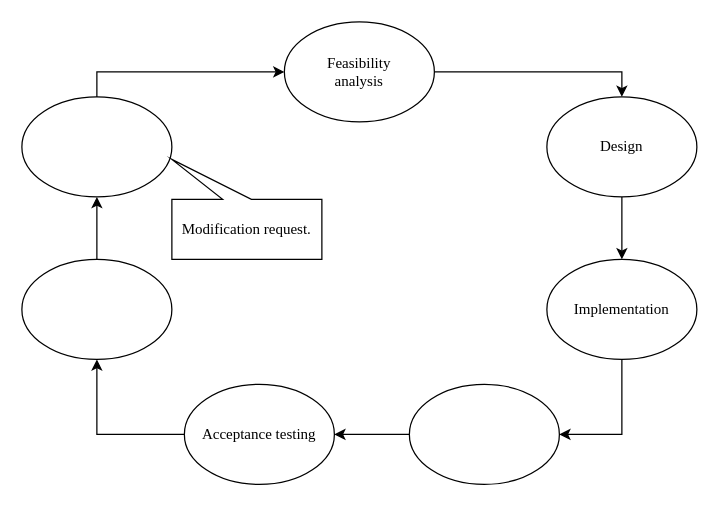
This 719x506 diagram has some shape labels left out. Here are the shapes that lost their labels. From the top down, the centre of each, then its label:
At [96,146]: "Classification and identification".
At [96,308]: "Delivery".
At [483,433]: "System testing".
